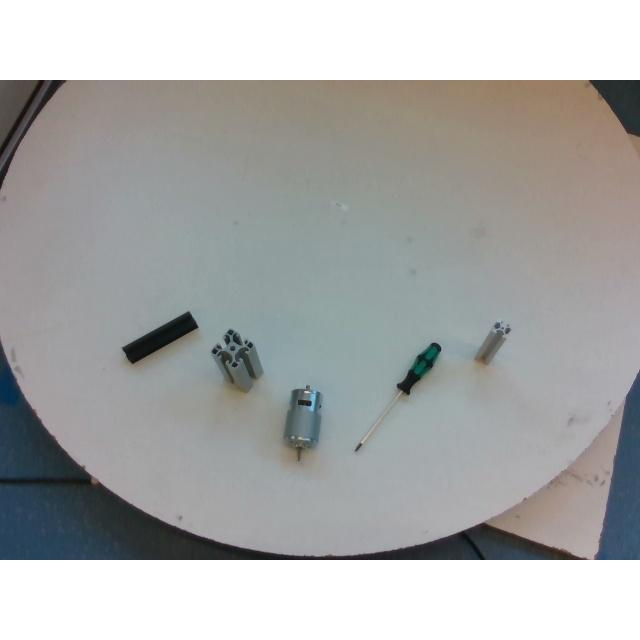F20_20_B: (123, 312, 197, 362)
F20_20_G: (474, 320, 510, 364)
Motor2: (285, 385, 321, 461)
S40_40_G: (210, 329, 262, 391)
Screwdriver: (353, 342, 441, 451)
